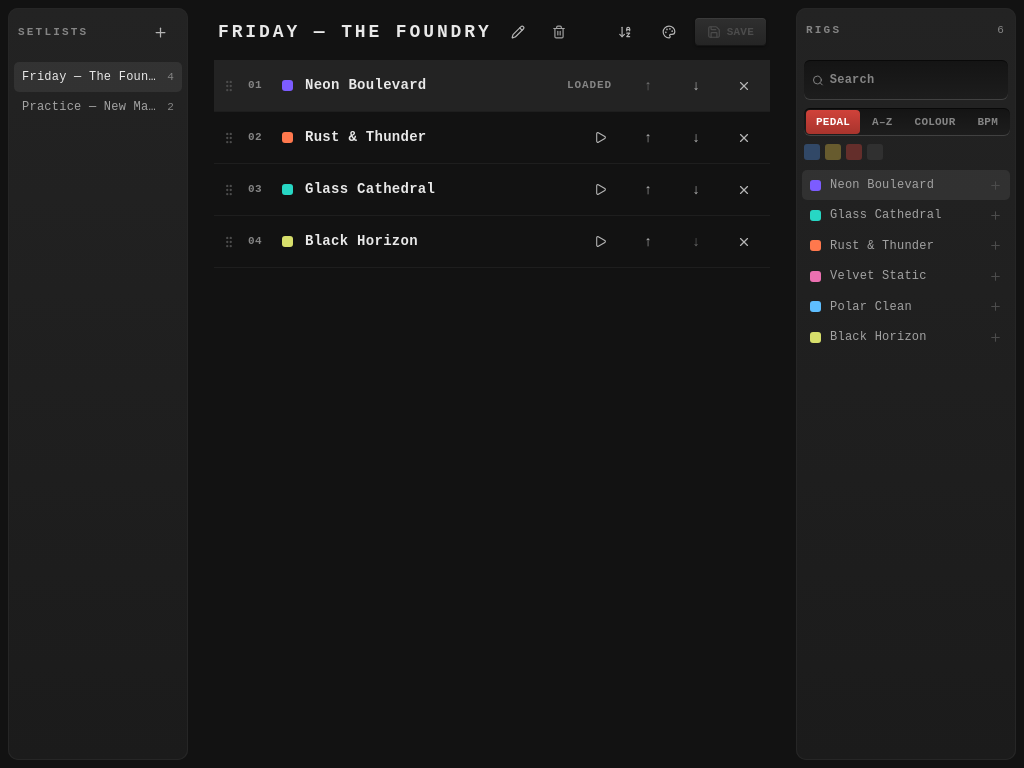
Test: LIBRARY · SETLISTS organizer › sorts the setlist A–Z and by colour, and sorts and filters the rig column
Step 1. Click the button named "Sort setlist A–Z" → (625, 32), box [607,14,643,50]
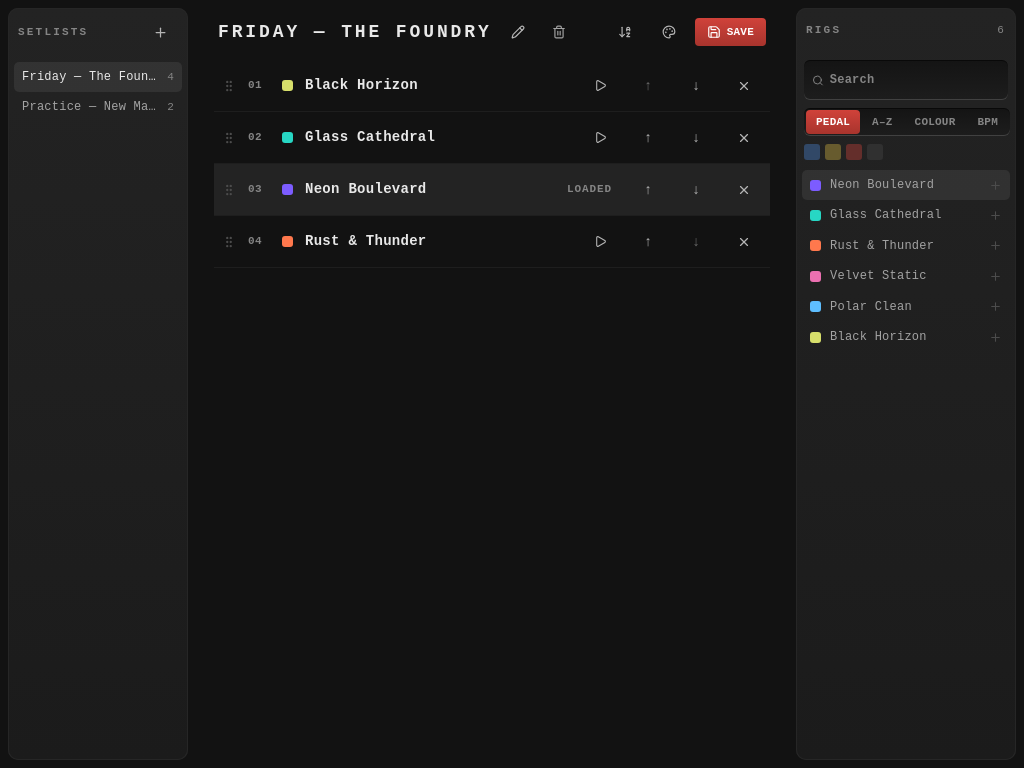
Result: the button "SAVE" is enabled at [695,18,766,46]
Step 2. Click the button named "Sort setlist by colour" → (669, 32), box [651,14,687,50]
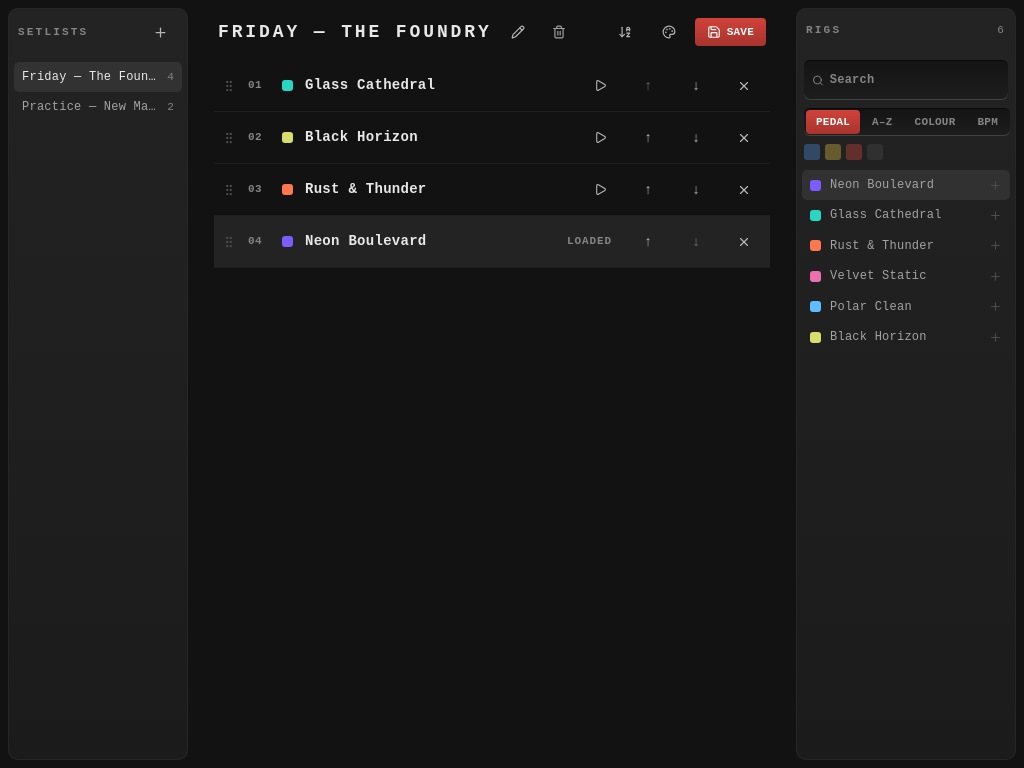
Expected: the text with class "rp-lib__name" next to "01" reads "Glass Cathedral", [305,77,435,93]
Step 3. Click the radio button labelled "A–Z" → (882, 122), box [862,110,903,134]
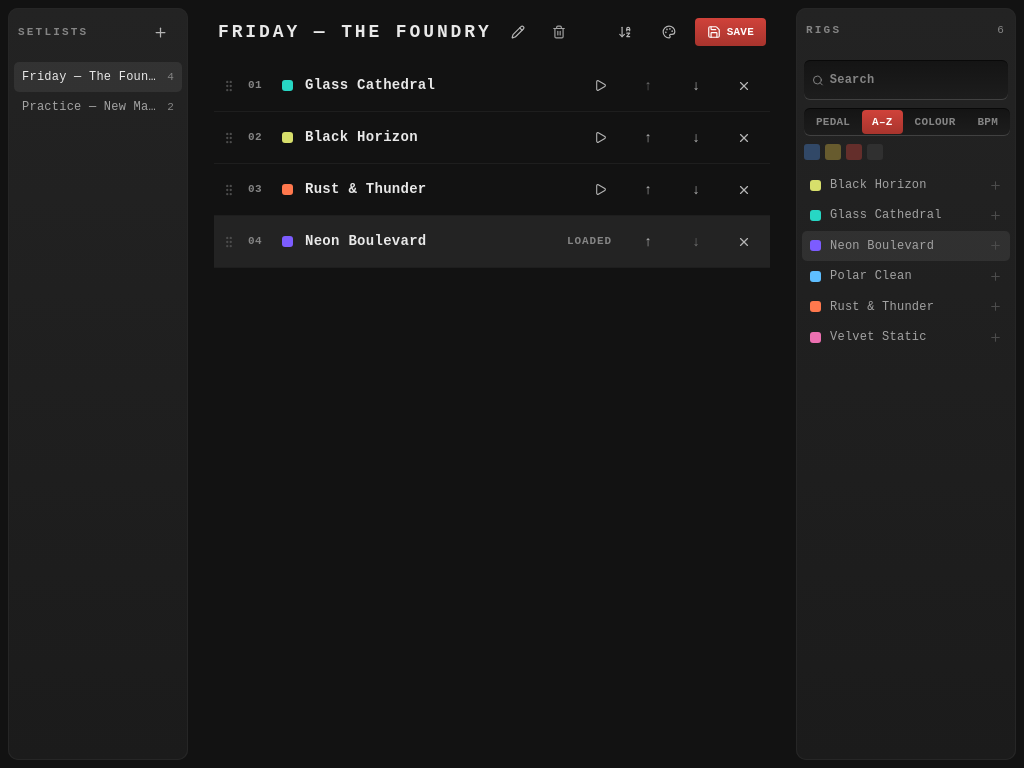
Result: the buttons "Add " read "Black Horizon", "Glass Cathedral", "Neon Boulevard", "Polar Clean", "Rust & Thunder", "Velvet Static", in this order at [802,170,1010,200]; [802,200,1010,231]; [802,231,1010,261]; [802,261,1010,292]; [802,292,1010,322]; [802,322,1010,352]
Step 4. Click the button named "Clean" → (812, 152), box [804,144,820,160]
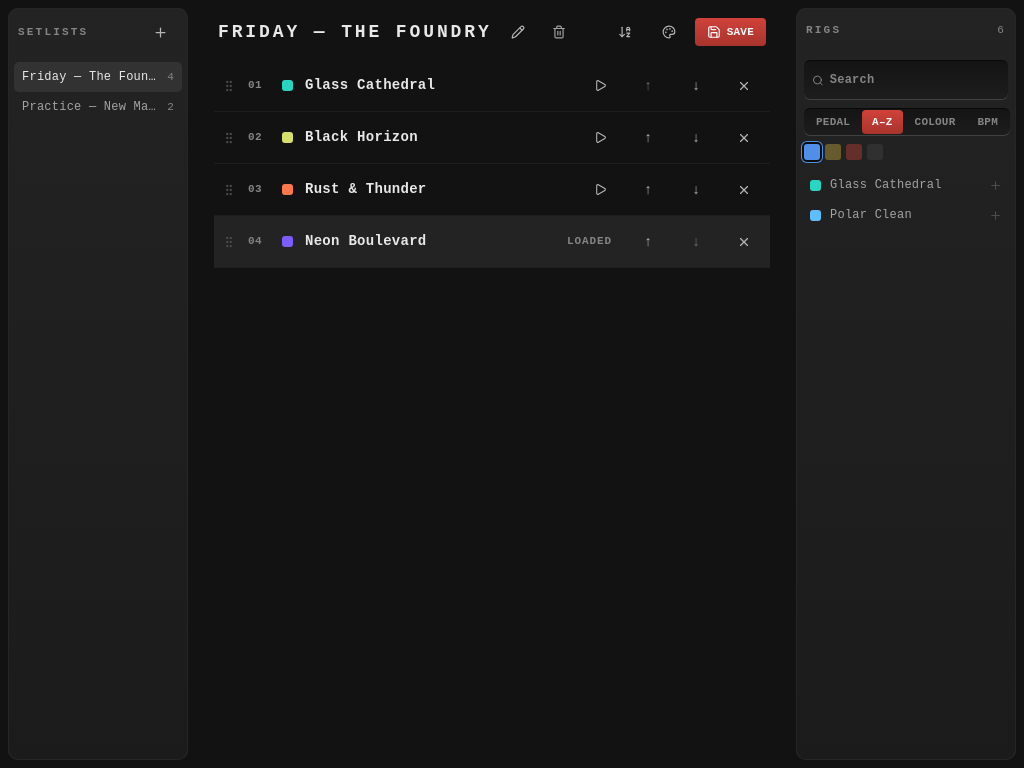
Result: the buttons "Add " read "Glass Cathedral", "Polar Clean", in this order at [802,170,1010,200]; [802,200,1010,231]
